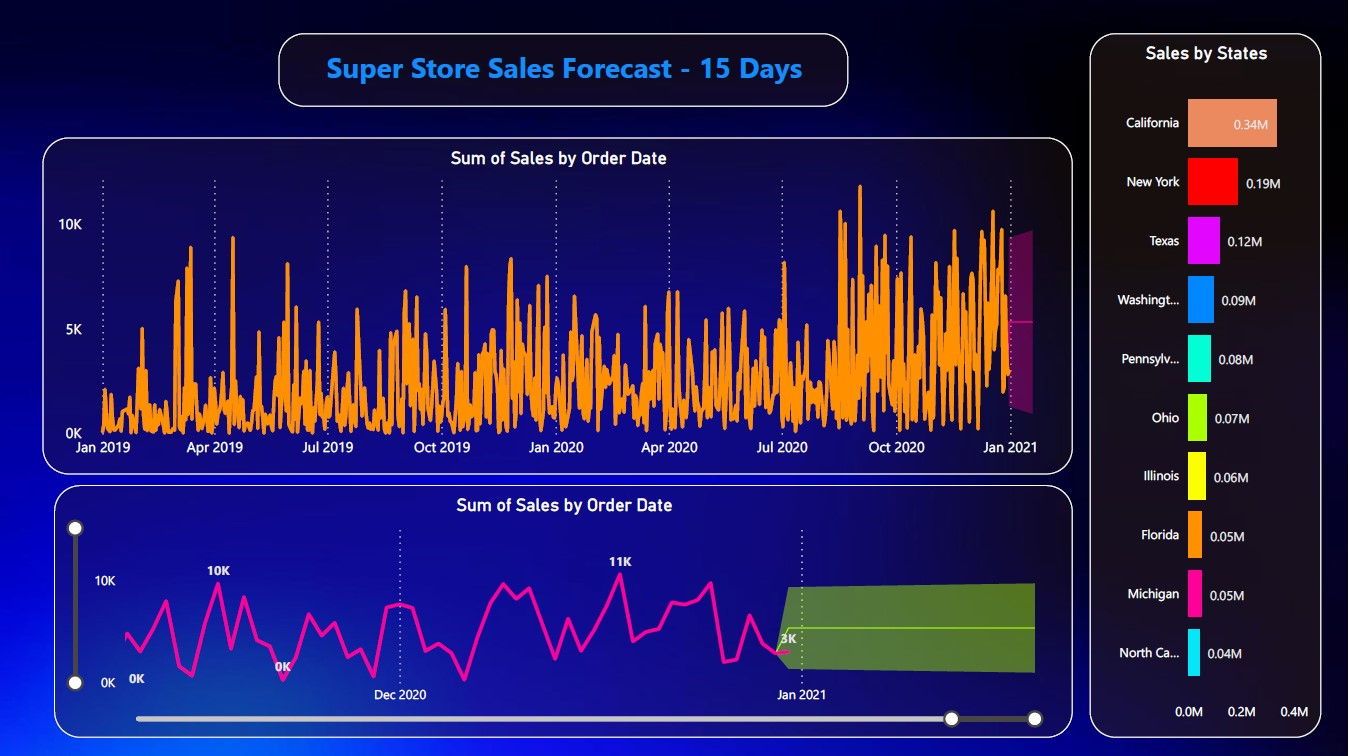

What the dashboard file says about the page in this screenshot:
{"tool":"powerbi","page":{"name":"Page 2","canvas":[1280,720],"ordinal":1},"visuals":[{"type":"lineChart","fields":{"Y":["Sum(SuperStore_Sales_Dataset.Sales)"],"Category":["SuperStore_Sales_Dataset.Order Date"]},"box":[41,132.7,978.1,320.8],"z":0},{"type":"lineChart","fields":{"Y":["Sum(SuperStore_Sales_Dataset.Sales)"],"Category":["SuperStore_Sales_Dataset.Order Date"]},"box":[51.9,463.1,967.2,240],"z":1000},{"type":"barChart","title":"Sales by States","fields":{"Y":["Sum(SuperStore_Sales_Dataset.Sales)"],"Category":["SuperStore_Sales_Dataset.State"]},"box":[1034.8,33.8,220.7,669.3],"z":2000},{"type":"textbox","box":[265.3,33.8,540.3,69.9],"z":2001}]}

Visuals, with their boxes in screenshot pixels (x1, y1, x2, y2), scaled from the page's 1280x720 canvas onto the 1350x756 screenshot:
lineChart - Sum(SuperStore_Sales_Dataset.Sales) x SuperStore_Sales_Dataset.Order Date: bbox(43, 139, 1075, 476)
lineChart - Sum(SuperStore_Sales_Dataset.Sales) x SuperStore_Sales_Dataset.Order Date: bbox(55, 486, 1075, 738)
"Sales by States" barChart: bbox(1091, 35, 1324, 738)
textbox: bbox(280, 35, 850, 109)
